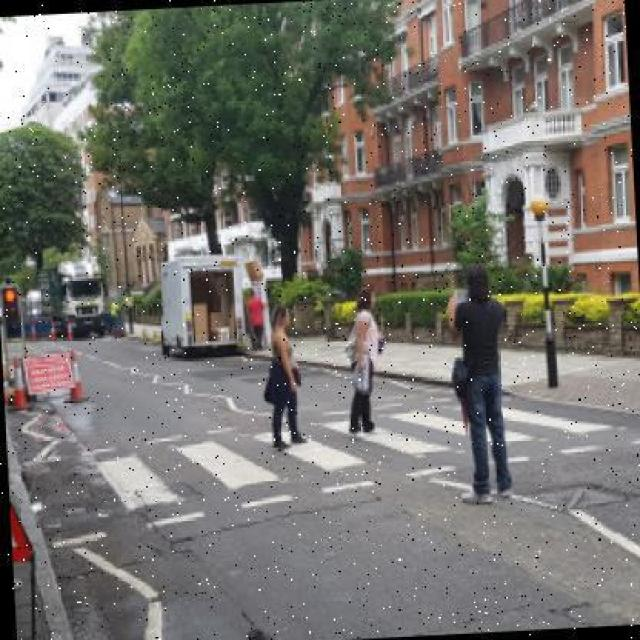Person: (445, 266, 513, 508), (342, 287, 388, 433), (264, 305, 304, 449), (244, 282, 270, 352)
